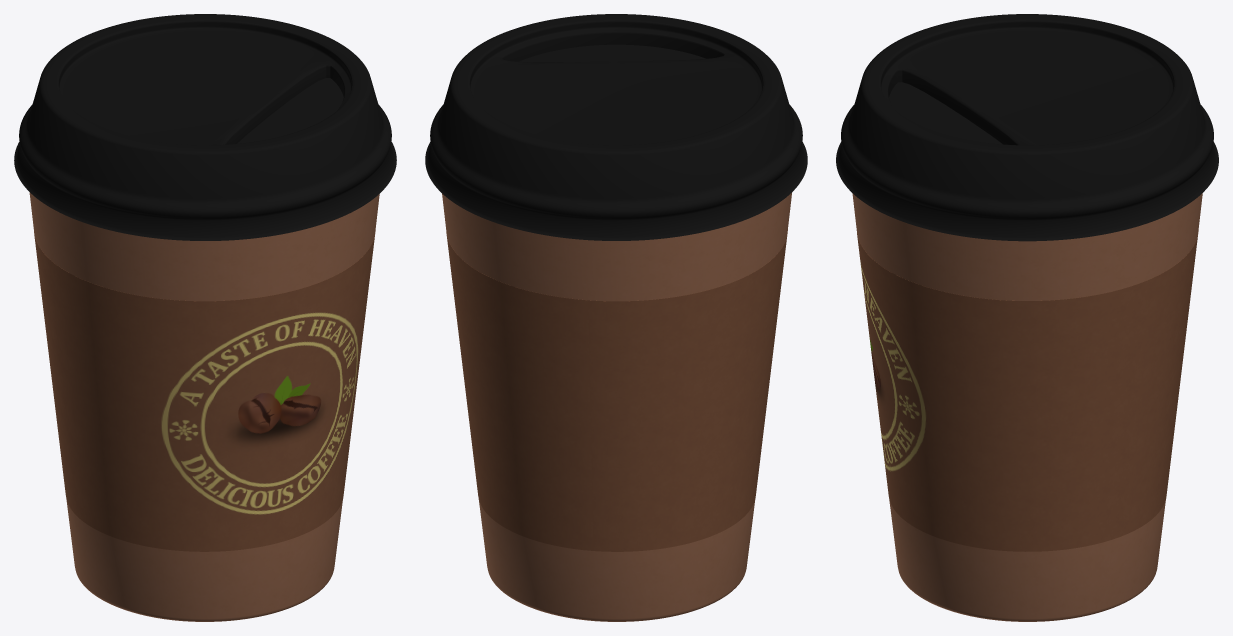
Rendered from coffee_cup_obj.obj.
3 views of the same model, side by side, from view 1: azimuth 30°, elevation 25°; view 2: azimuth 150°, elevation 25°; view 3: azimuth 270°, elevation 25° (orthographic).
Parts seen in each view (by area): view 1: coffee_cup_Cylinder.007; view 2: coffee_cup_Cylinder.007; view 3: coffee_cup_Cylinder.007.
Part boxes in pixels (x1=…): coffee_cup_Cylinder.007: x1=14, y1=14, x2=396, y2=621; coffee_cup_Cylinder.007: x1=425, y1=14, x2=807, y2=621; coffee_cup_Cylinder.007: x1=836, y1=14, x2=1218, y2=621.
Bounding box in the file's own units: 0.5217 × 0.7324 × 0.5217.
Materials: 1 (1 with a texture image).
